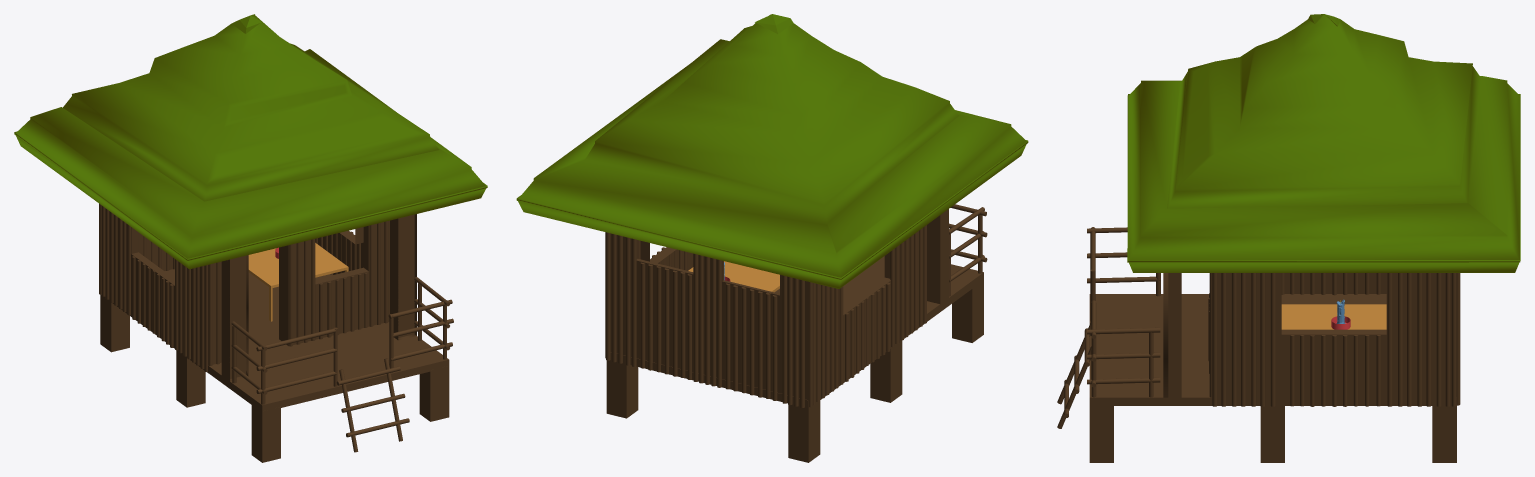
File: dayscene.gltf
3 views of the same model, side by side, from view 1: azimuth 30°, elevation 25°; view 2: azimuth 150°, elevation 25°; view 3: azimuth 270°, elevation 25° (orthographic). The views are drawn at different scales.
Visible parts, largest first — view 1: pCone1, pPlane1, pCube1, Cube, pCube2, pCube3, pCube5, pCube7, pCylinder68, pCylinder34, pCylinder32, pCylinder27 (+2 smaller); view 2: pCone1, pCube1, pPlane1, pCube5, pCube4, pCube7, pCube2, Cube, pCylinder61, pCylinder54, pCylinder63, pCylinder55 (+26 smaller); view 3: pCone1, pCube1, pPlane1, Cube, pCube3, pCube4, pCube6, pCylinder38, pCylinder40, pCylinder41, pCylinder36, pCylinder37 (+11 smaller).
Part boxes in pixels (x1,y1,x2,y2): pCone1: (14,14,487,269); pPlane1: (105,214,449,412); pCube1: (104,208,389,372); Cube: (248,243,348,321); pCube2: (251,405,280,462); pCube3: (419,366,449,421); pCube5: (100,294,129,352); pCube7: (176,350,205,407); pCylinder68: (200,266,204,368); pCylinder34: (384,221,388,323); pCylinder32: (369,224,373,326); pCylinder27: (208,264,212,365); pCone1: (516,14,1028,288); pCube1: (610,228,924,408); pPlane1: (610,209,983,408); pCube5: (788,400,820,462); pCube4: (606,360,638,418); pCube7: (870,340,902,402); pCube2: (952,280,983,342); Cube: (688,261,779,292); pCylinder61: (693,254,698,381); pCylinder54: (618,235,622,363); pCylinder63: (794,278,798,406); pCylinder55: (717,259,721,387); pCone1: (1127,14,1520,272); pCube1: (1211,273,1456,405); pPlane1: (1089,273,1456,405); Cube: (1281,304,1386,329); pCube3: (1089,406,1113,462); pCube4: (1432,406,1456,462); pCube6: (1260,406,1284,462); pCylinder38: (1231,273,1236,406); pCylinder40: (1251,273,1256,406); pCylinder41: (1260,273,1265,406); pCylinder36: (1212,273,1217,406); pCylinder37: (1221,273,1226,406).
Size of the model in its own units: 2.05 by 2.28 by 2.42.
